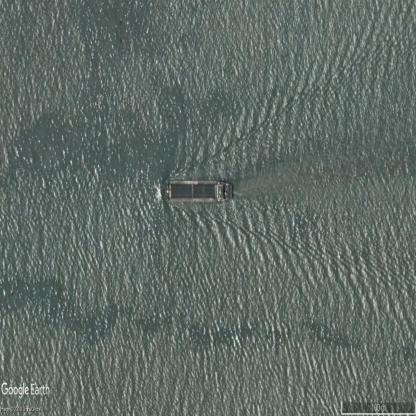ship: (163, 178, 233, 202)
